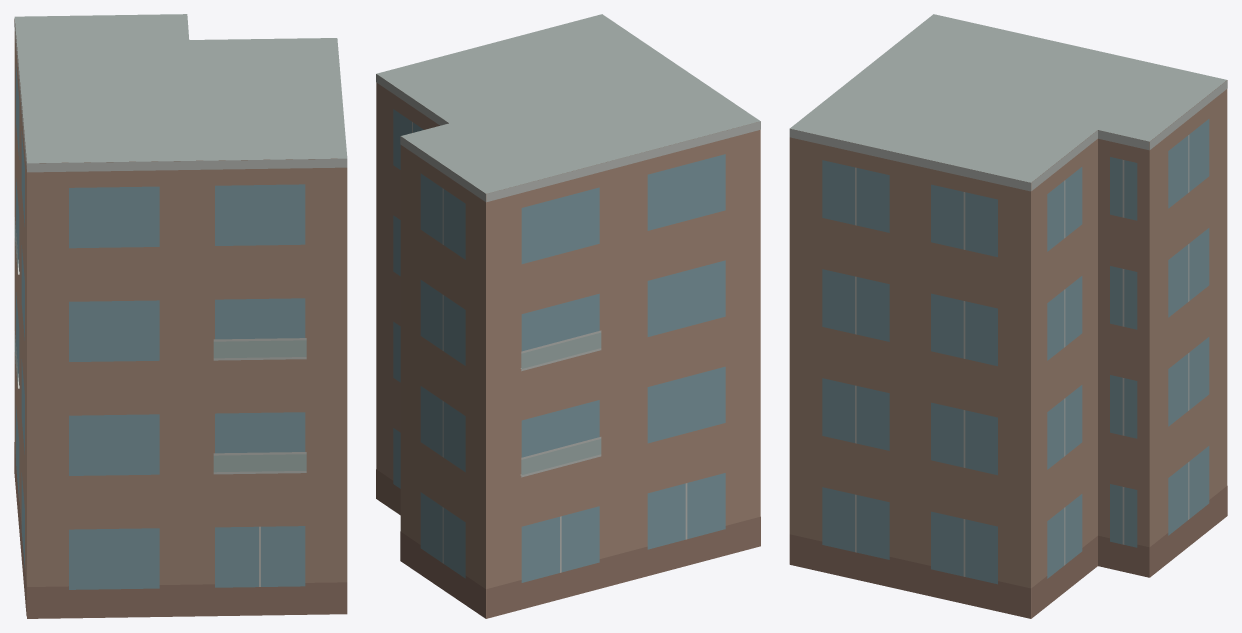
Rendered from residential-335f74c2-5047-4956-b247-2dd5662a60b8.glb.
The picture shows the model from 3 angles, left to right: view 1: azimuth 30°, elevation 25°; view 2: azimuth 150°, elevation 25°; view 3: azimuth 270°, elevation 25°; orthographic projection. The views are drawn at different scales.
Parts seen in each view (by area): view 1: residential-335f74c2-5047-4956-b247-2dd5662a60b8.tmp; view 2: residential-335f74c2-5047-4956-b247-2dd5662a60b8.tmp; view 3: residential-335f74c2-5047-4956-b247-2dd5662a60b8.tmp.
Boxes of the visible parts, x1,y1,x2,y2 form: residential-335f74c2-5047-4956-b247-2dd5662a60b8.tmp: (14,14,347,618); residential-335f74c2-5047-4956-b247-2dd5662a60b8.tmp: (376,14,760,618); residential-335f74c2-5047-4956-b247-2dd5662a60b8.tmp: (789,14,1227,618).
Bounding box in the file's own units: 10.14 × 12.2 × 11.11.
